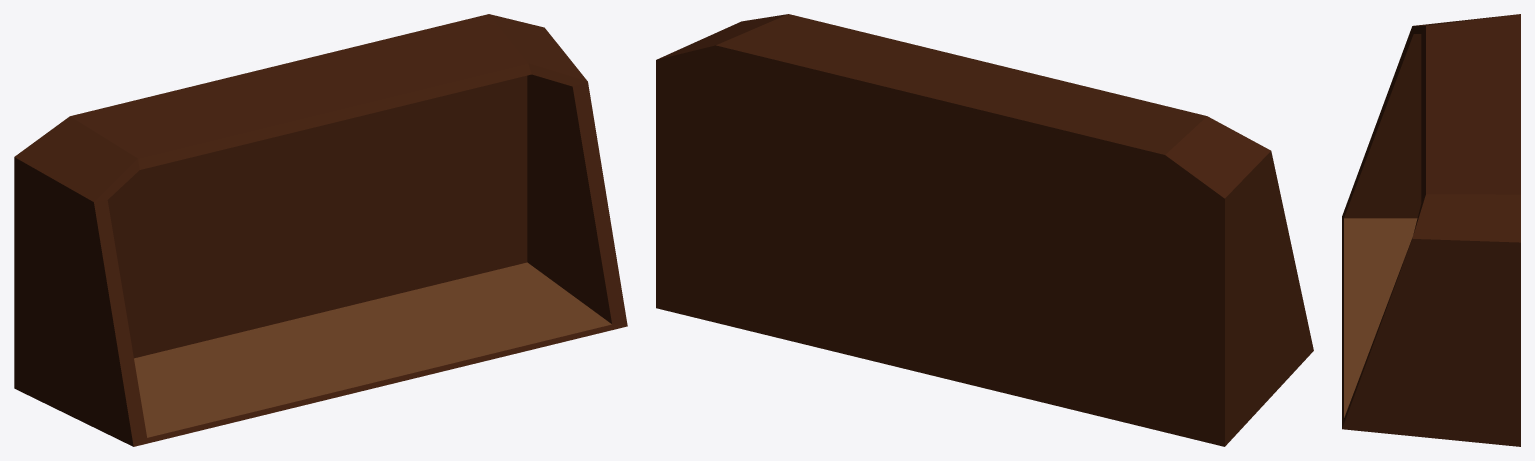
File: szafa.fbx
3 views of the same model, side by side, from view 1: azimuth 30°, elevation 25°; view 2: azimuth 150°, elevation 25°; view 3: azimuth 270°, elevation 25° (orthographic). The views are drawn at different scales.
Visible parts, largest first — view 1: Cube.009; view 2: Cube.009; view 3: Cube.009.
Boxes of the visible parts, x1,y1,x2,y2 form: Cube.009: [14, 14, 627, 446]; Cube.009: [656, 14, 1313, 446]; Cube.009: [1342, 14, 1520, 446].
Bounding box in the file's own units: 1638 × 763 × 542.
